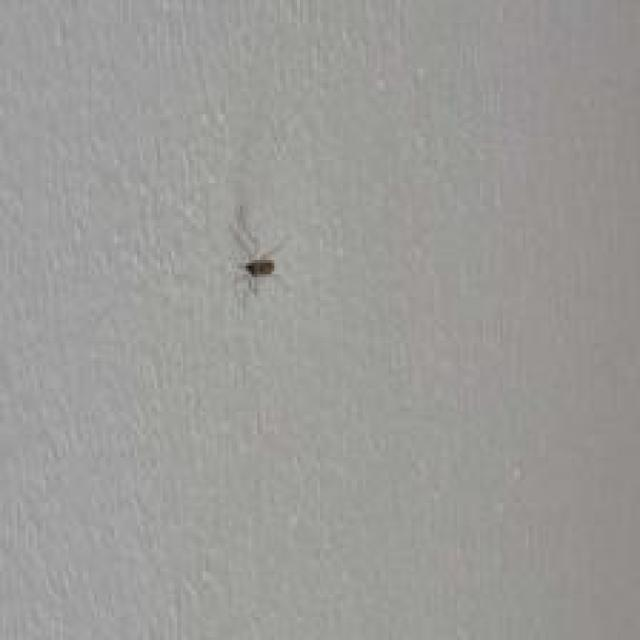Culex: (228, 203, 286, 294)
